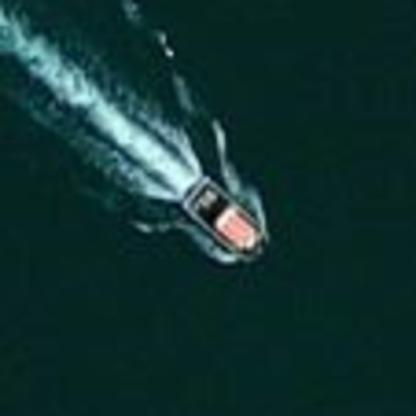ship: (176, 168, 270, 274)
